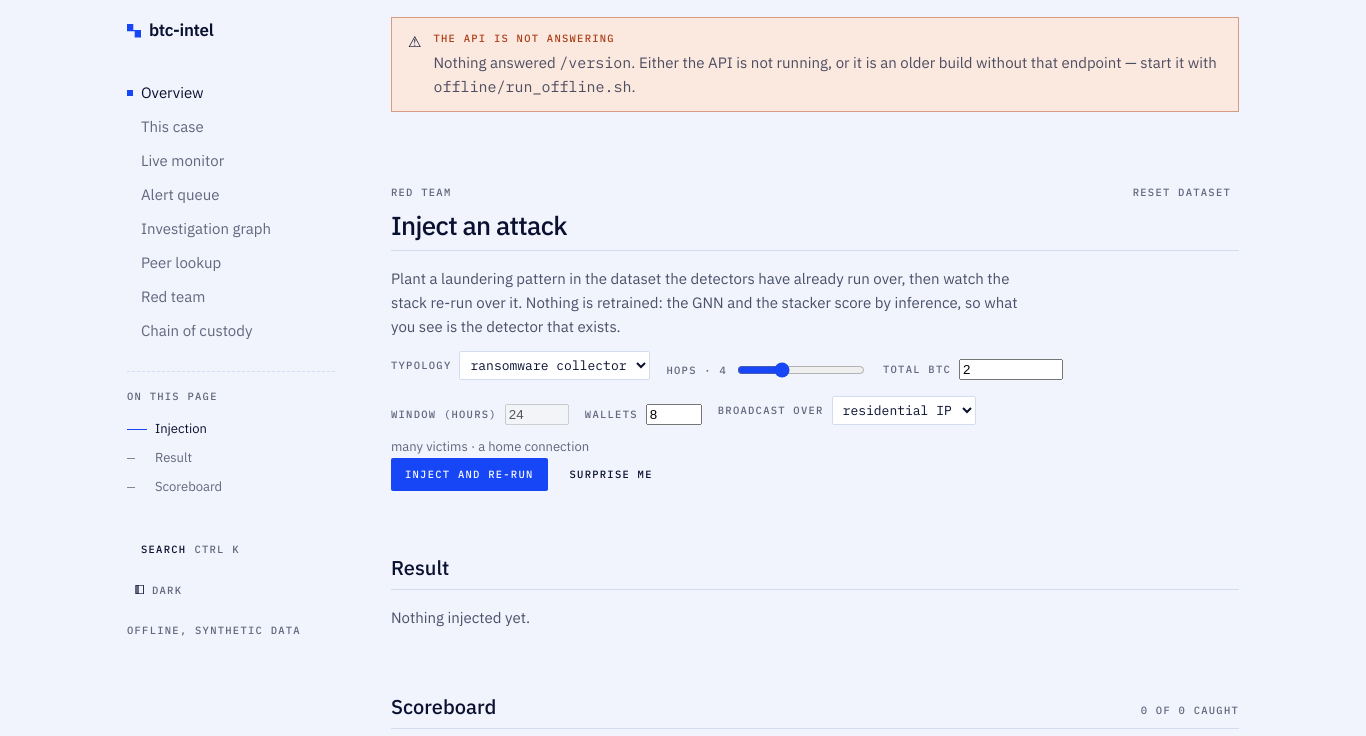
Test: the red-team page › never shows MISSED for a pattern that is not a crime
Click the button "Inject and re-run".
click(469, 475)  # box [391,458,548,491]
(page scrolled)
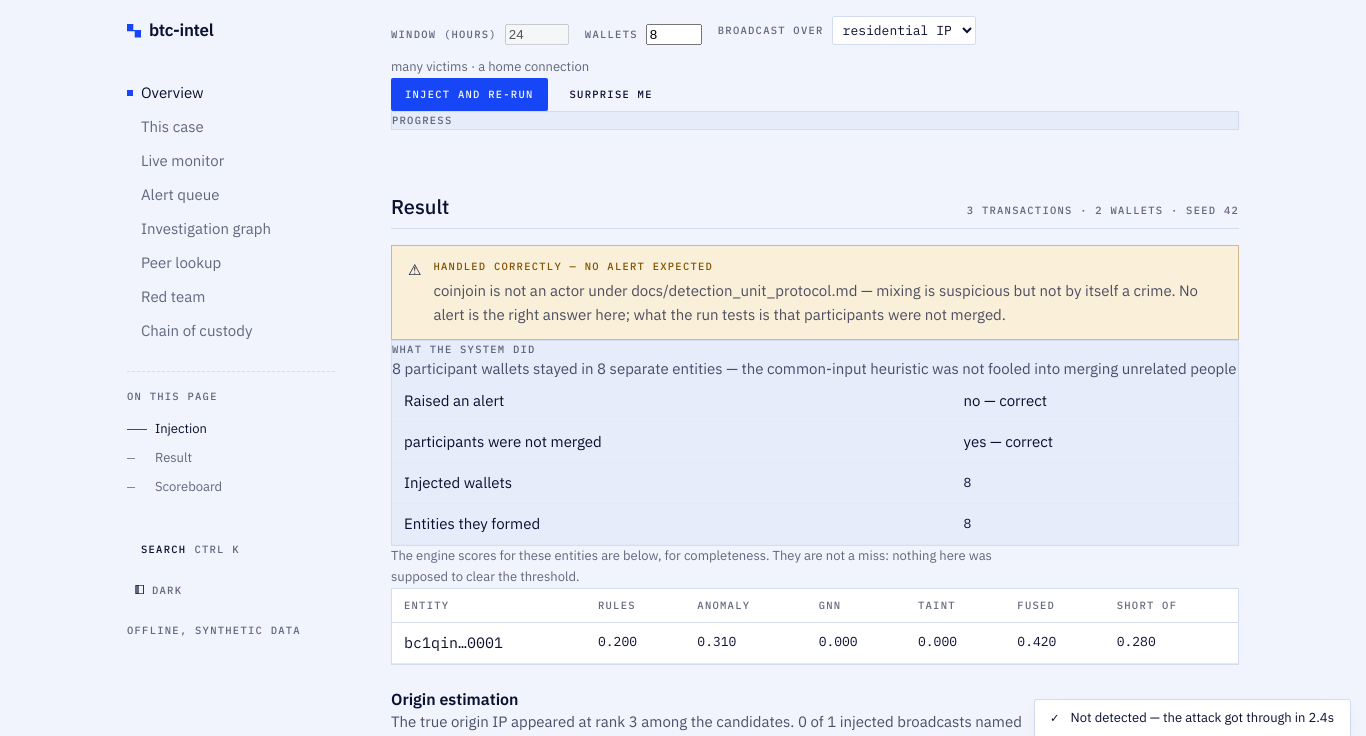
Result: the text "Handled correctly — no alert expected" is shown at [434,259,713,273]
Result: the text "stayed in 8 separate entities" is shown at [392,359,1237,378]
